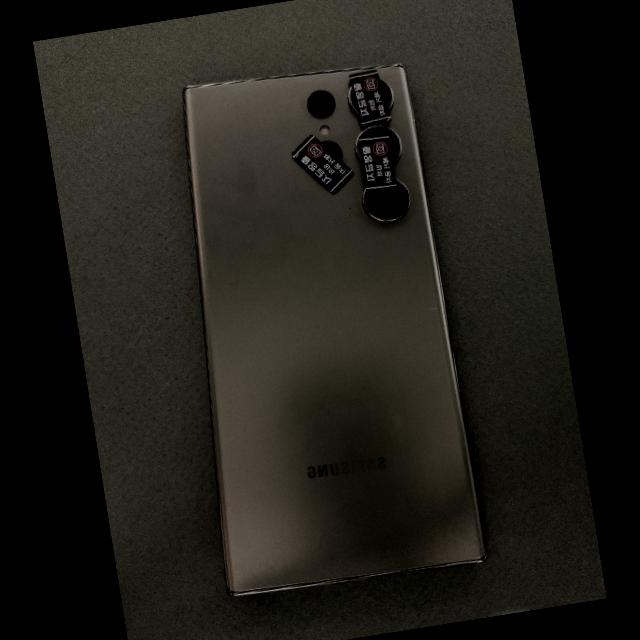lens: (363, 180, 409, 222), (357, 123, 402, 164), (305, 91, 334, 118), (345, 83, 359, 119)
phone: (183, 65, 486, 595)
sticker: (293, 135, 355, 194), (348, 70, 390, 128), (358, 132, 396, 192)
